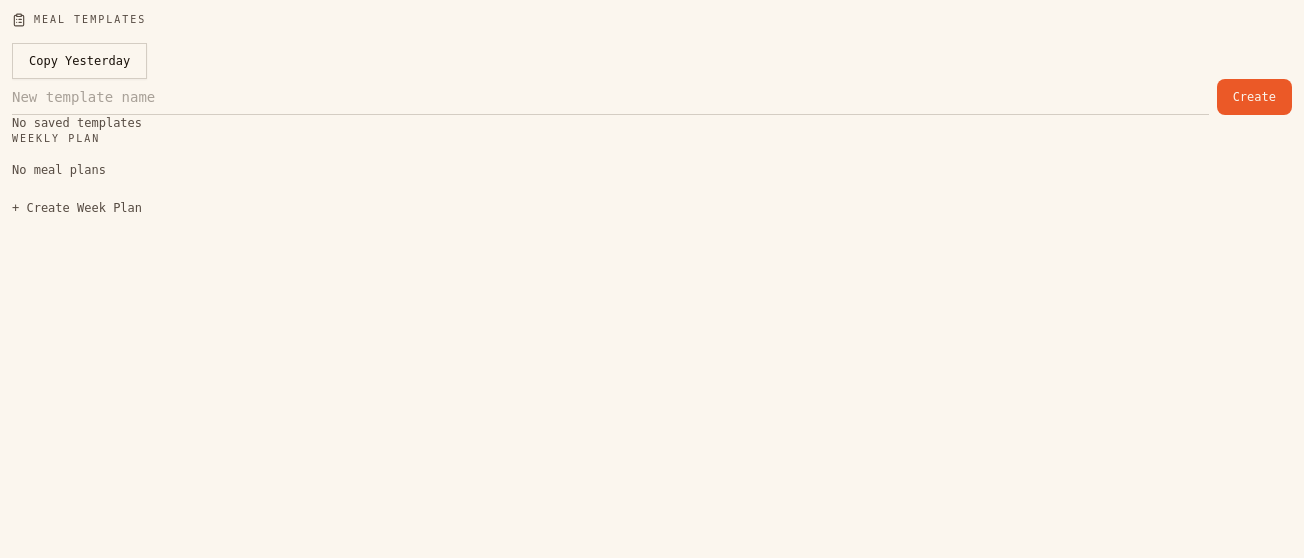
Test: MealTemplates › Save Plan button is enabled when plan name is entered
Click the button "+ Create Week Plan": (77, 208) left=12, top=200, right=142, bottom=216
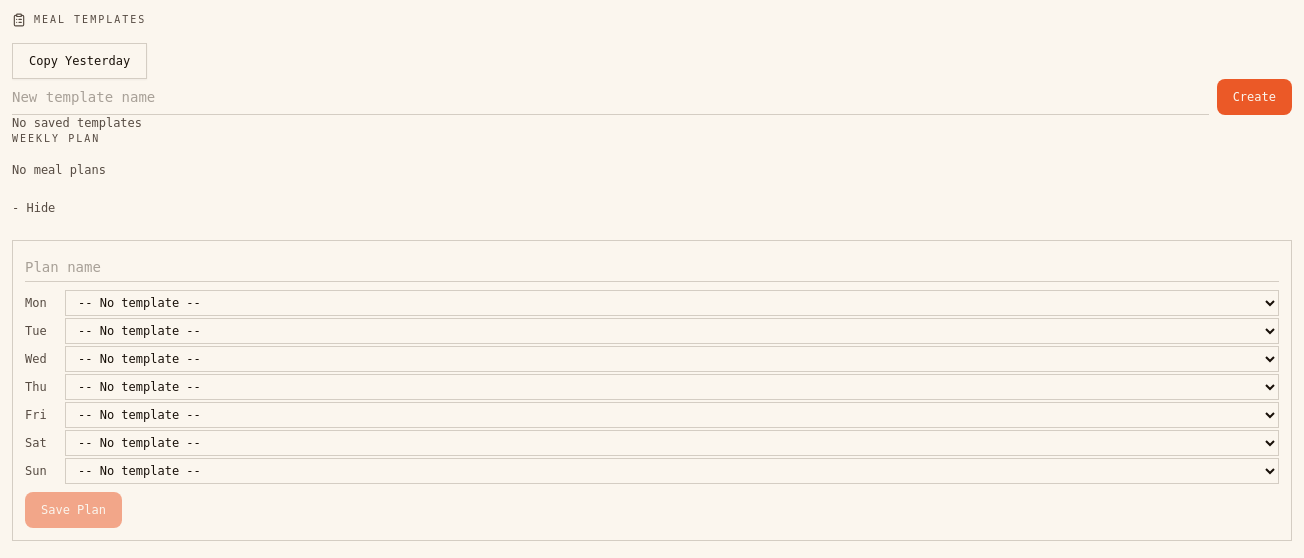
In the field with placeholder "Plan name": (652, 268) left=25, top=253, right=1279, bottom=282, type "My Plan"
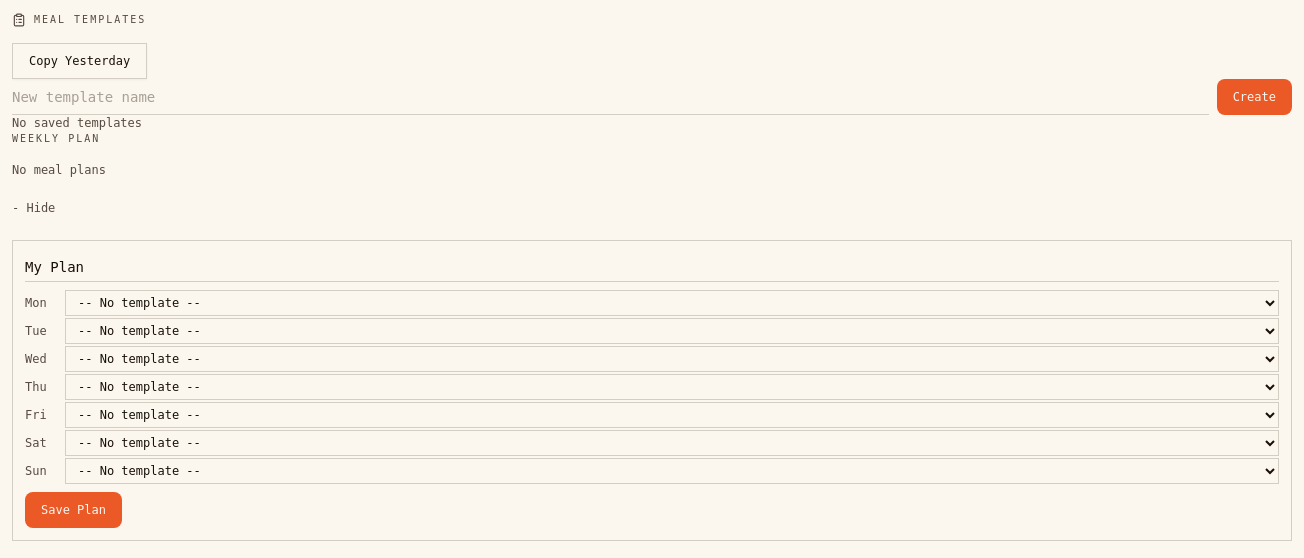
Expected: the button "Save Plan" is enabled, left=25, top=492, right=122, bottom=528
